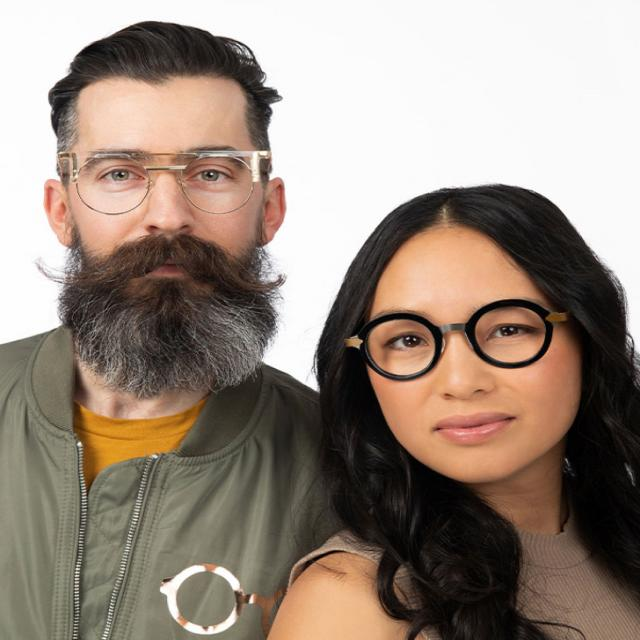Glasses: (347, 297, 569, 382), (57, 147, 273, 217)
